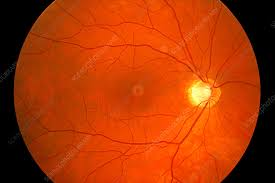Glaucoma section-1: (195, 84, 209, 103)
Glaucoma section-2: (189, 80, 222, 110)
